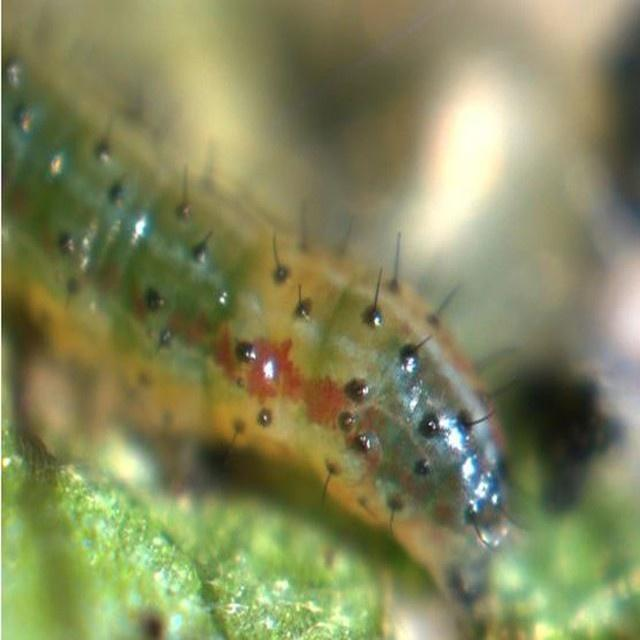Plaga: (1, 33, 534, 566)
